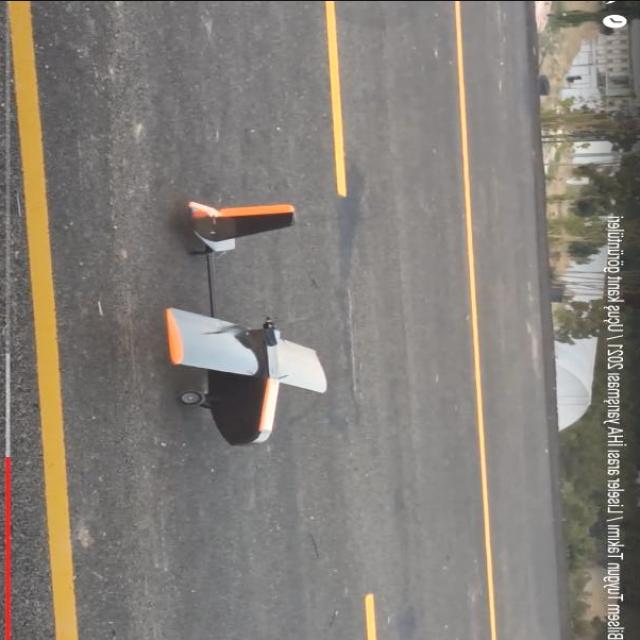plane: (164, 197, 330, 446)
